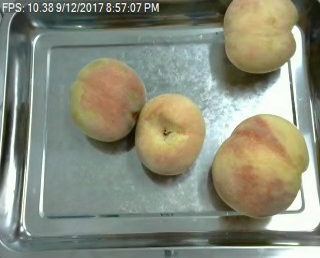Peach: (210, 112, 308, 218), (69, 57, 145, 142), (133, 94, 206, 177), (222, 0, 298, 74)
